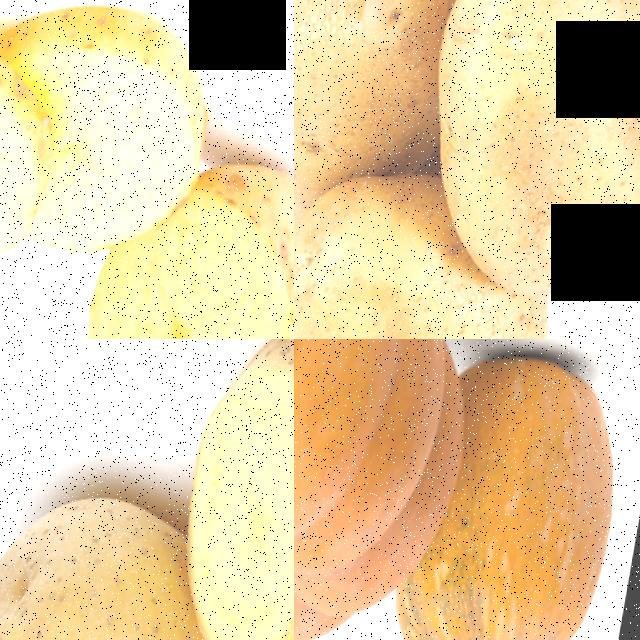potato: (408, 0, 640, 314), (294, 175, 571, 339), (294, 0, 461, 193), (0, 483, 190, 640), (136, 154, 294, 339), (0, 10, 83, 284)
pumpkin: (419, 343, 640, 640), (294, 339, 497, 640)
